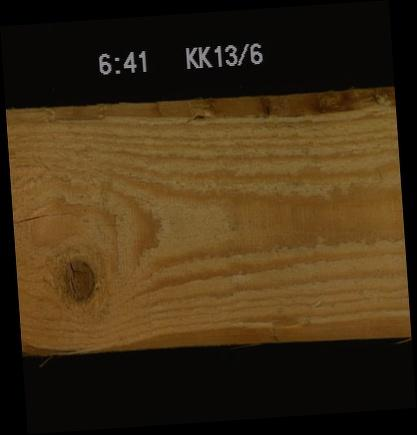dry_knot: (56, 254, 96, 300)
split: (13, 207, 82, 229)
wave: (46, 96, 394, 122), (28, 334, 301, 358)
